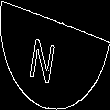N_N: (39, 26, 71, 84)
